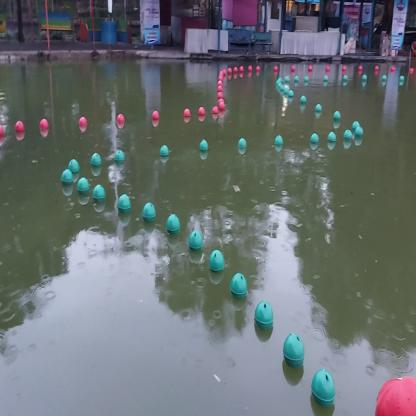green_buoy: (309, 362, 337, 410), (254, 293, 276, 336), (281, 330, 305, 368), (206, 241, 227, 278), (229, 267, 249, 302), (165, 210, 184, 236), (115, 192, 133, 216), (188, 226, 204, 252), (75, 172, 90, 198), (142, 200, 158, 224), (91, 181, 106, 206), (58, 166, 75, 187), (65, 155, 80, 174), (197, 137, 211, 154), (113, 147, 125, 165), (326, 129, 338, 146), (90, 151, 102, 168), (159, 142, 170, 159), (313, 101, 324, 116), (342, 127, 353, 142), (274, 133, 283, 150), (238, 134, 247, 151), (309, 132, 318, 146), (355, 126, 365, 138), (333, 109, 341, 122), (353, 116, 359, 131), (300, 94, 308, 104)
red_buoy: (38, 114, 49, 133), (79, 115, 88, 135), (196, 101, 205, 120), (14, 118, 24, 135), (149, 108, 160, 122), (218, 96, 227, 112), (116, 114, 126, 128), (209, 103, 219, 116), (182, 108, 192, 120), (0, 123, 5, 139)
